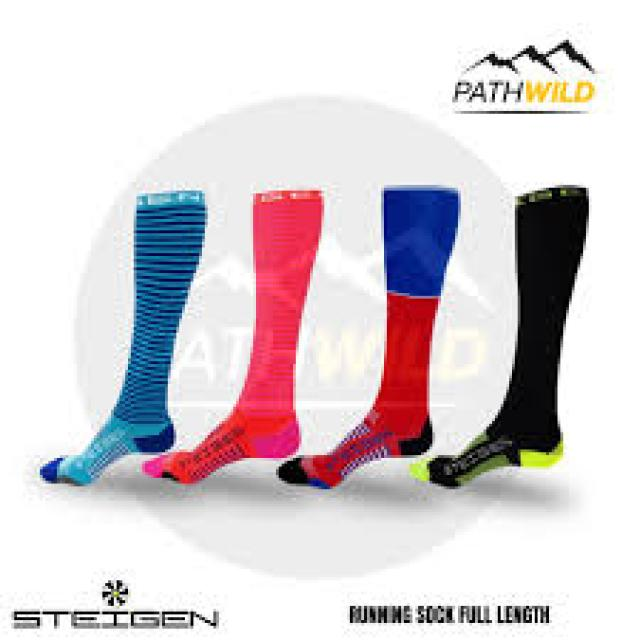sock: (276, 182, 458, 486), (140, 187, 324, 483), (410, 182, 588, 486), (37, 187, 208, 483)
